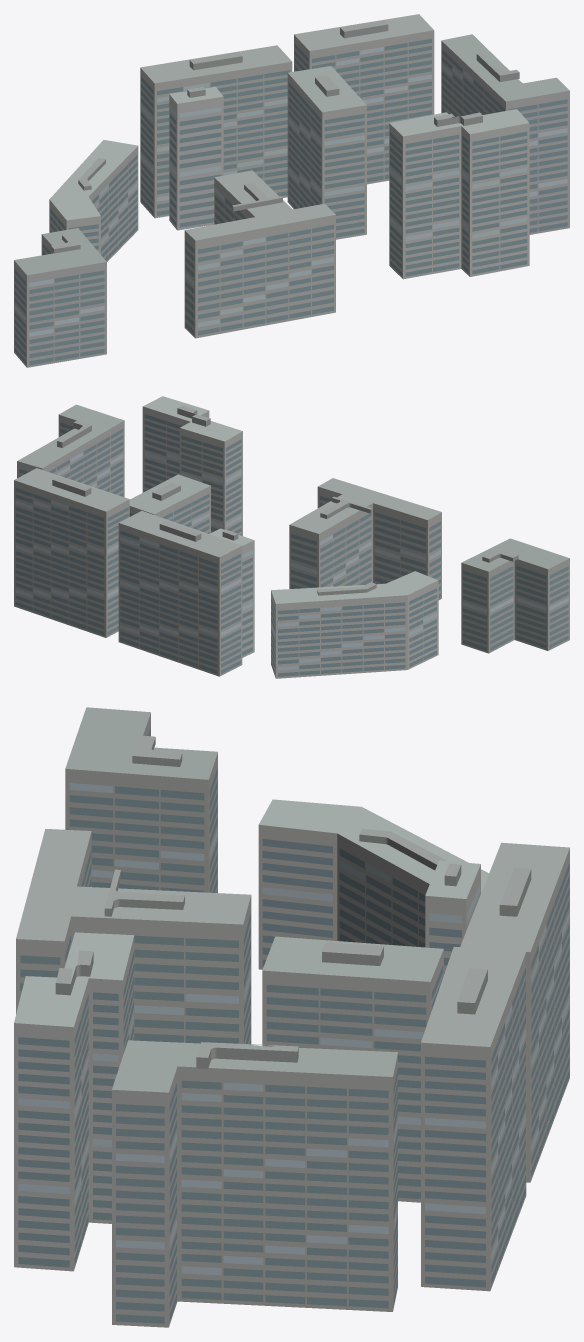
File: apt-a15192201.glb
The picture shows the model from 3 angles, top to bottom: view 1: azimuth 30°, elevation 25°; view 2: azimuth 150°, elevation 25°; view 3: azimuth 270°, elevation 25°; orthographic projection. The views are drawn at different scales.
Parts seen in each view (by area): view 1: apt-a15192201; view 2: apt-a15192201; view 3: apt-a15192201.
Part boxes in pixels (<box>): apt-a15192201: <box>14,14,569,367</box>; apt-a15192201: <box>14,396,569,678</box>; apt-a15192201: <box>14,707,569,1327</box>.
Size of the model in its own units: 209 by 54 by 106.
